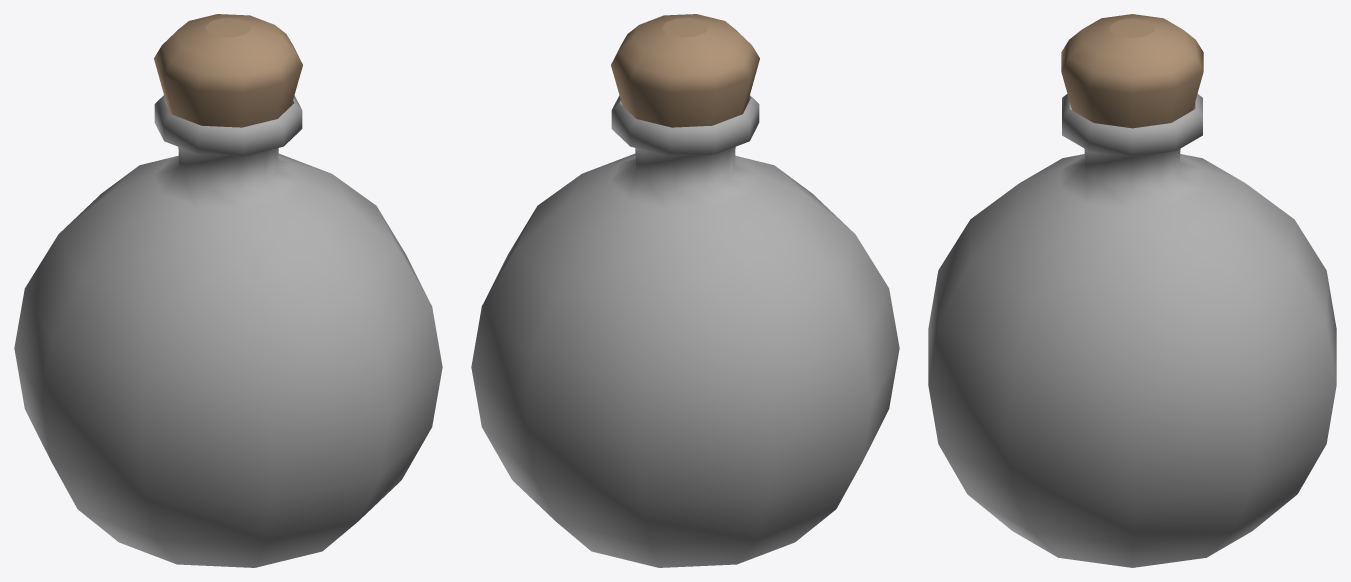
The model's file is potion02.fbx.
3 renders of one model, left to right at view 1: azimuth 30°, elevation 25°; view 2: azimuth 150°, elevation 25°; view 3: azimuth 270°, elevation 25°, orthographic.
Parts seen in each view (by area): view 1: poisonPotion_Bottle, poisonPotion_Top; view 2: poisonPotion_Bottle, poisonPotion_Top; view 3: poisonPotion_Bottle, poisonPotion_Top.
Part boxes in pixels (x1=…): poisonPotion_Bottle: x1=14, y1=95, x2=442, y2=567; poisonPotion_Top: x1=154, y1=14, x2=302, y2=127; poisonPotion_Bottle: x1=471, y1=95, x2=899, y2=567; poisonPotion_Top: x1=611, y1=14, x2=759, y2=127; poisonPotion_Bottle: x1=928, y1=94, x2=1336, y2=567; poisonPotion_Top: x1=1061, y1=14, x2=1203, y2=128.
Size of the model in its own units: 46.23 by 58.97 by 43.97.
